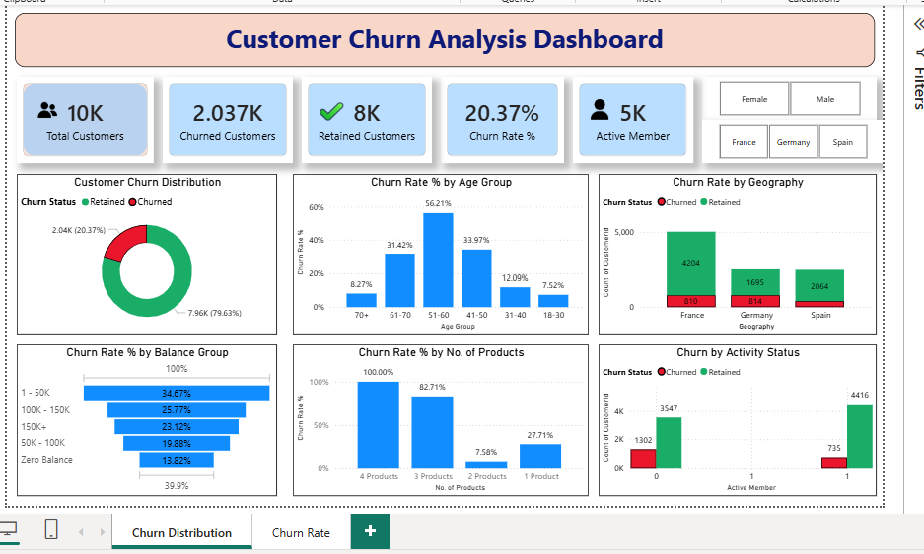

What the dashboard file says about the page in this screenshot:
{"tool":"powerbi","page":{"name":"Churn Distribution","canvas":[1280,720],"ordinal":0},"visuals":[{"type":"cardVisual","fields":{"Data":["Churn_Modelling.Total Customers"]},"box":[14.4,103.7,200.2,123.8],"z":0},{"type":"cardVisual","fields":{"Data":["Churn_Modelling.Churn Rate %"]},"box":[633.6,103.7,180,123.8],"z":1000},{"type":"cardVisual","fields":{"Data":["Churn_Modelling.Churned Customers"]},"box":[227.5,103.7,190.1,123.8],"z":2000},{"type":"cardVisual","fields":{"Data":["Churn_Modelling.Retained Customers"]},"box":[430.6,103.7,190.1,123.8],"z":3000},{"type":"donutChart","title":"Customer Churn Distribution","fields":{"Y":["CountNonNull(Churn_Modelling.CustomerId)"],"Category":["Churn_Modelling.Churm Status"]},"box":[14.4,243.4,380.2,230.4],"z":4000},{"type":"clusteredColumnChart","fields":{"Category":["Churn_Modelling.Age Group"],"Y":["Churn_Modelling.Churn Rate %"]},"box":[417.6,243.4,432,230.4],"z":5000},{"type":"columnChart","title":"Churn Rate by Geography","fields":{"Category":["Churn_Modelling.Geography"],"Y":["CountNonNull(Churn_Modelling.CustomerId)"],"Series":["Churn_Modelling.Churn Status"]},"box":[864,243.4,406.1,230.4],"z":6000},{"type":"funnel","fields":{"Category":["Churn_Modelling.Balance Group"],"Y":["Churn_Modelling.Churn Rate %"]},"box":[14.4,486.7,380.2,218.9],"z":7000},{"type":"clusteredColumnChart","title":"Churn by Activity Status","fields":{"Category":["Churn_Modelling.IsActiveMember"],"Y":["CountNonNull(Churn_Modelling.CustomerId)"],"Series":["Churn_Modelling.Churn Status"]},"box":[864,486.7,406.1,218.9],"z":8000},{"type":"slicer","fields":{"Values":["Churn_Modelling.Gender"]},"box":[1015.2,103.7,254.9,61.9],"z":9000},{"type":"cardVisual","title":"Active Members","fields":{"Data":["Sum(Churn_Modelling.IsActiveMember)"]},"box":[826.6,103.7,175.7,123.8],"z":10000},{"type":"slicer","fields":{"Values":["Churn_Modelling.Geography"]},"box":[1015.2,165.6,265,61.9],"z":11000},{"type":"clusteredColumnChart","fields":{"Y":["Churn_Modelling.Churn Rate %"],"Category":["Churn_Modelling.Product Category"]},"box":[417.6,486.7,432,218.9],"z":12000},{"type":"textbox","box":[11.5,11.5,1255.7,77.8],"z":13000},{"type":"image","box":[40.3,135.4,37.4,30.2],"z":14000},{"type":"image","box":[456.5,135.4,34.6,36],"z":15000},{"type":"image","box":[849.6,135.4,31.7,30.2],"z":16000}]}

Visuals, with their boxes in screenshot pixels (x1, y1, x2, y2):
cardVisual - Churn_Modelling.Total Customers: [15, 76, 152, 161]
cardVisual - Churn_Modelling.Churn Rate %: [440, 76, 563, 161]
cardVisual - Churn_Modelling.Churned Customers: [161, 76, 292, 161]
cardVisual - Churn_Modelling.Retained Customers: [300, 76, 431, 161]
"Customer Churn Distribution" donutChart: [15, 172, 276, 330]
clusteredColumnChart - Churn_Modelling.Age Group x Churn_Modelling.Churn Rate %: [292, 172, 588, 330]
"Churn Rate by Geography" columnChart: [598, 172, 877, 330]
funnel - Churn_Modelling.Balance Group x Churn_Modelling.Churn Rate %: [15, 339, 276, 489]
"Churn by Activity Status" clusteredColumnChart: [598, 339, 877, 489]
slicer - Churn_Modelling.Gender: [702, 76, 877, 119]
"Active Members" cardVisual: [572, 76, 693, 161]
slicer - Churn_Modelling.Geography: [702, 119, 884, 161]
clusteredColumnChart - Churn_Modelling.Churn Rate % x Churn_Modelling.Product Category: [292, 339, 588, 489]
textbox: [13, 13, 875, 66]
image: [32, 98, 58, 119]
image: [318, 98, 342, 123]
image: [588, 98, 610, 119]
